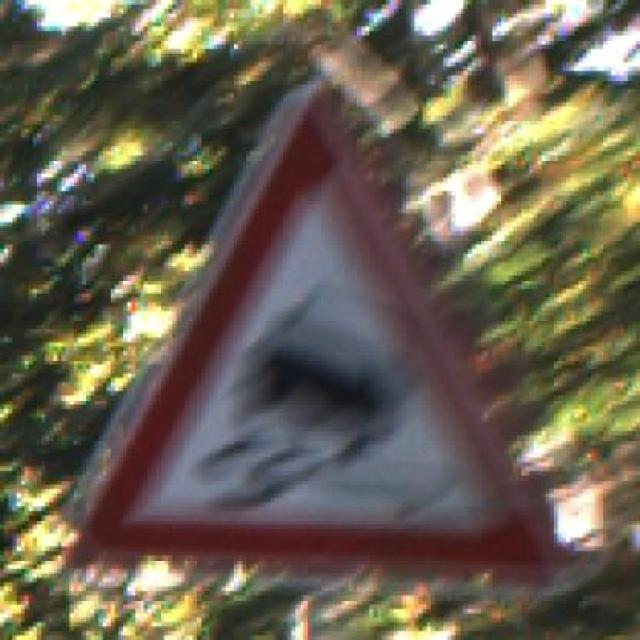Slippery Road Ahead: (69, 72, 591, 582)
